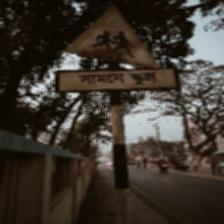School-in-front: (56, 1, 177, 94)
